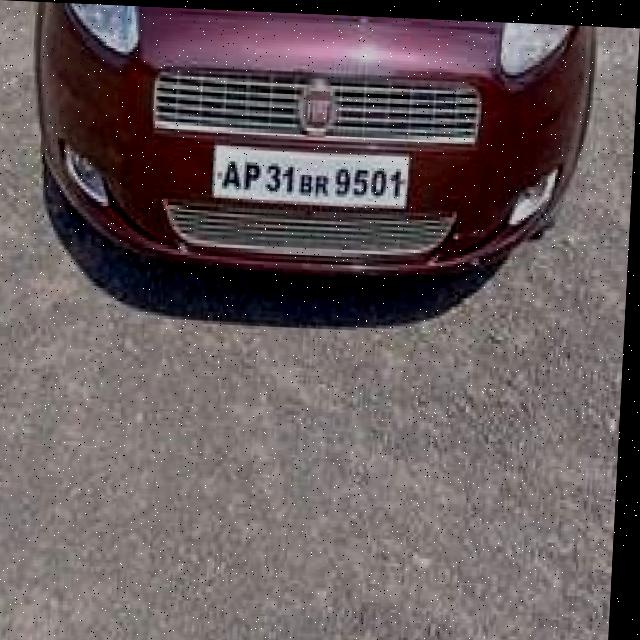plate: (214, 142, 414, 209)
